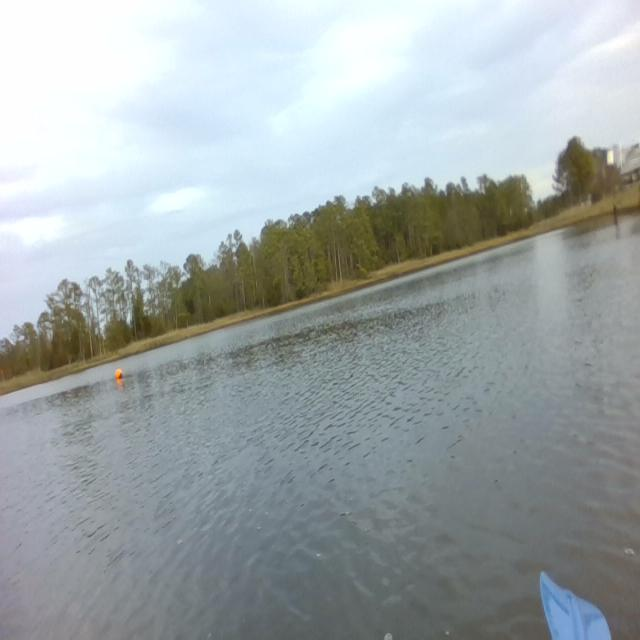Buoy: (112, 364, 125, 383)
